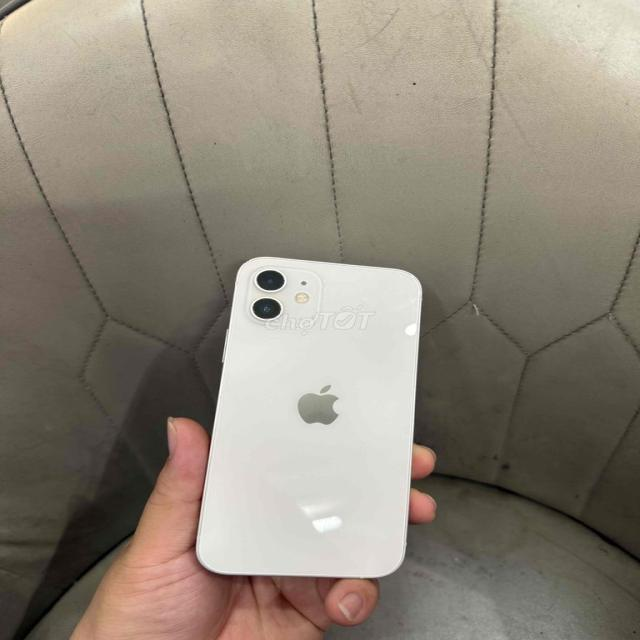gen_12_13: (183, 250, 428, 582)
